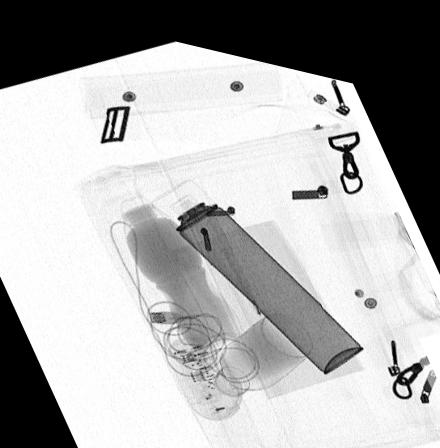Sprayer: (149, 171, 364, 360)
